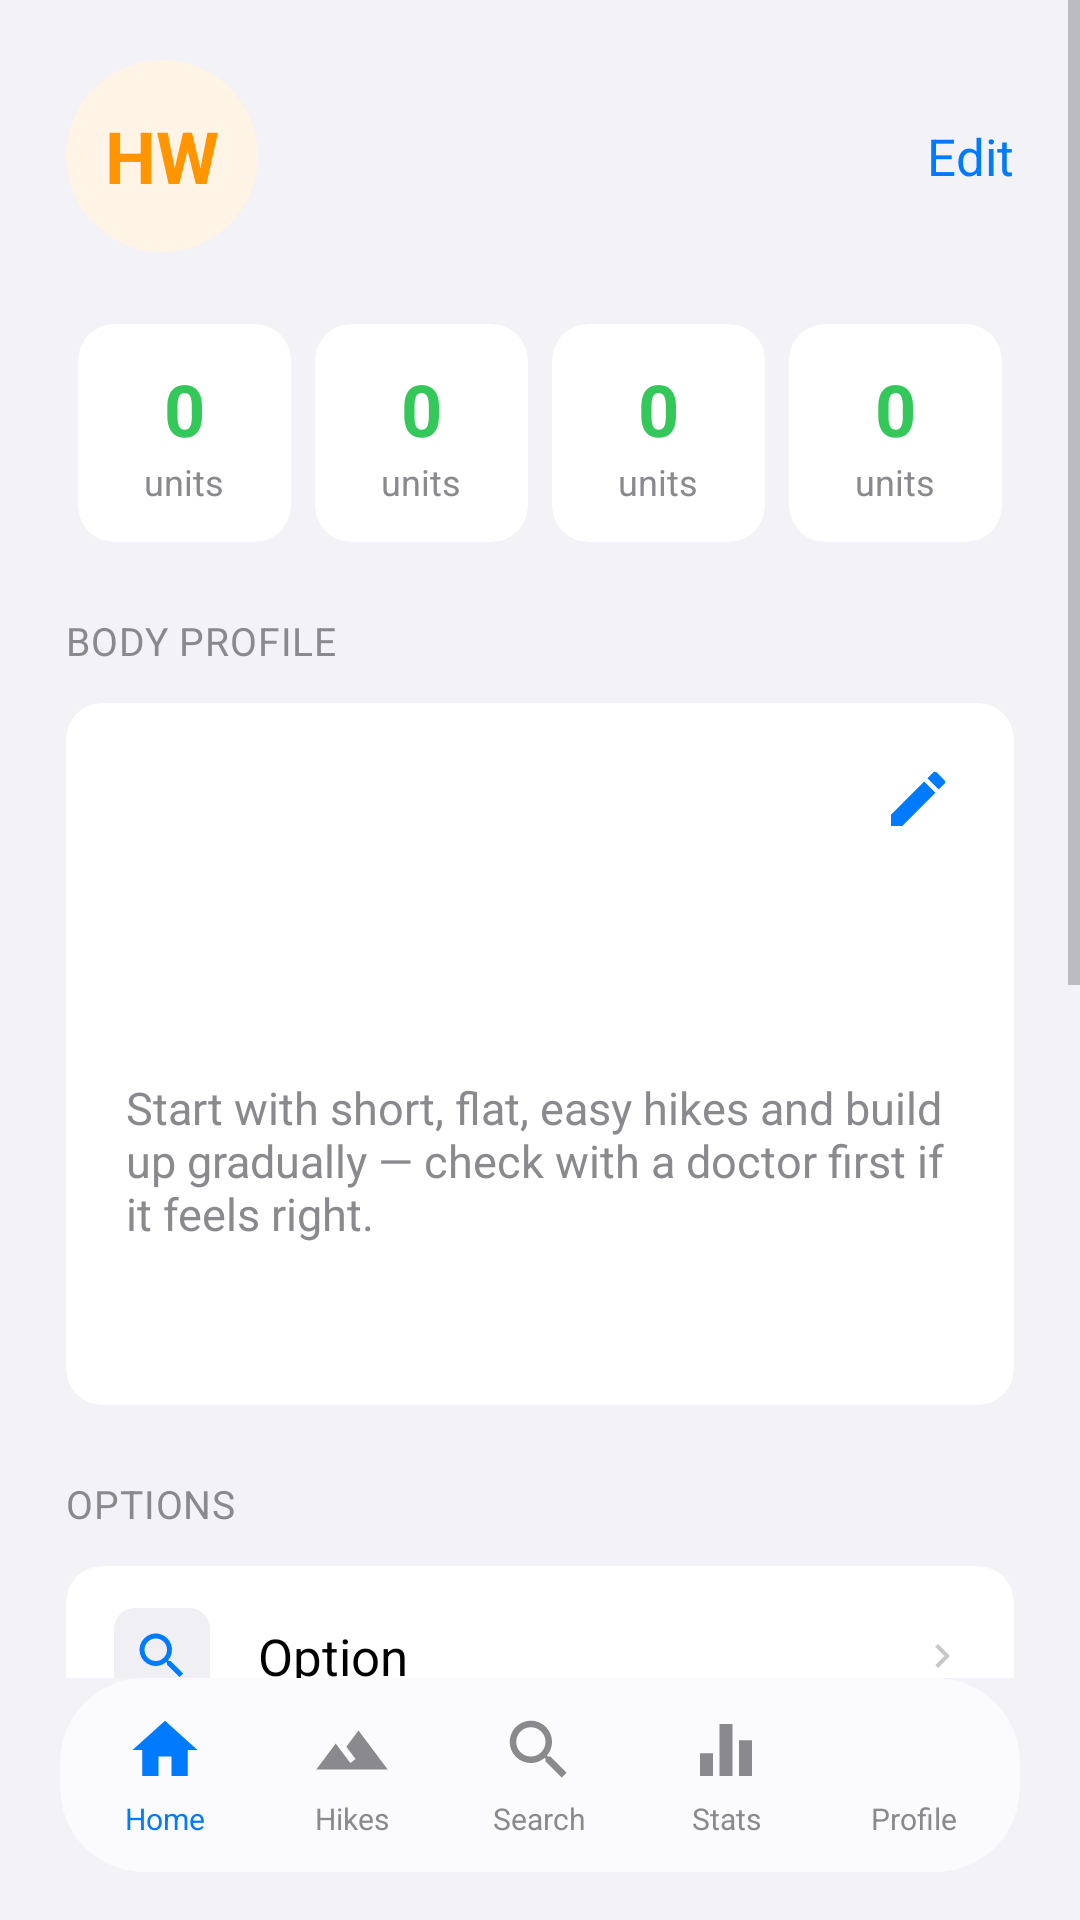

Point at icon controls on the screen. Image size 1080px x 1920px, points as (x,y).
chevron right: (942,1656)
Edit stats: (918,798)
